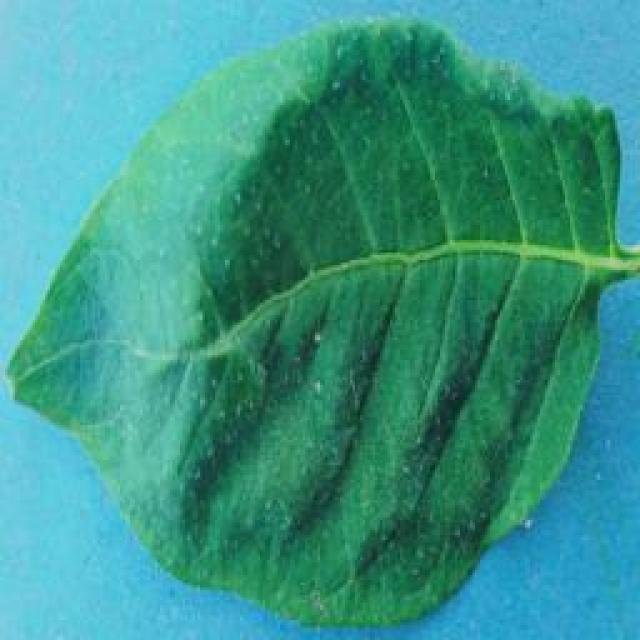Potato_Healthy: (8, 14, 630, 630)
